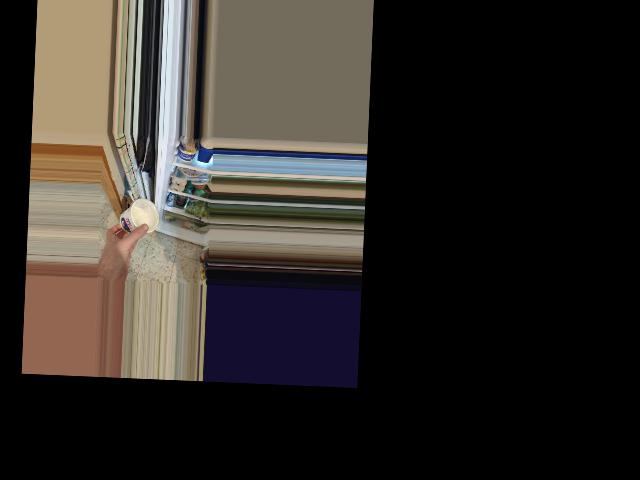cotage: (117, 197, 157, 236)
